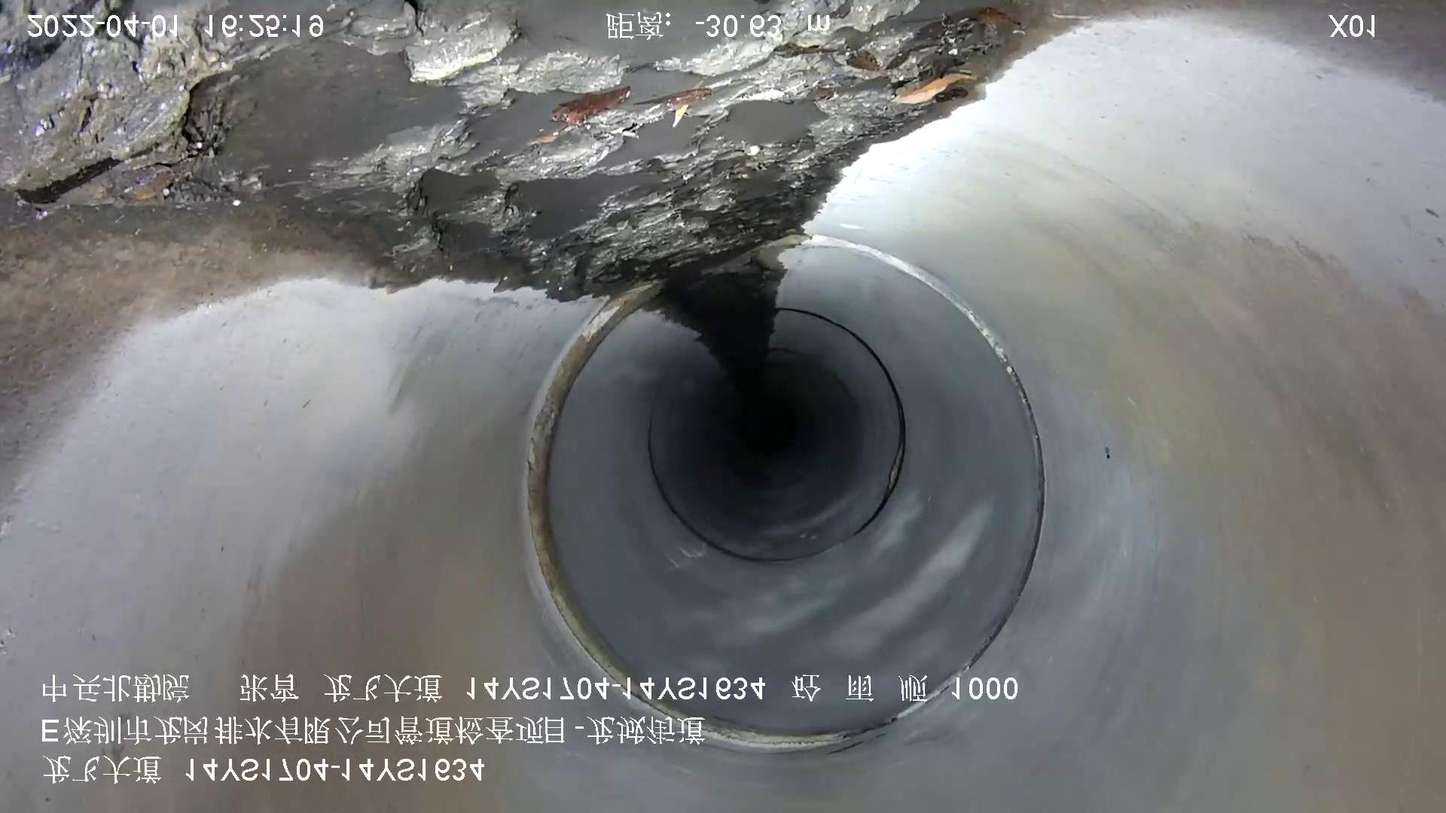CJ: (0, 1, 1018, 339)
CKTJ: (522, 224, 1060, 764), (642, 301, 913, 568)
